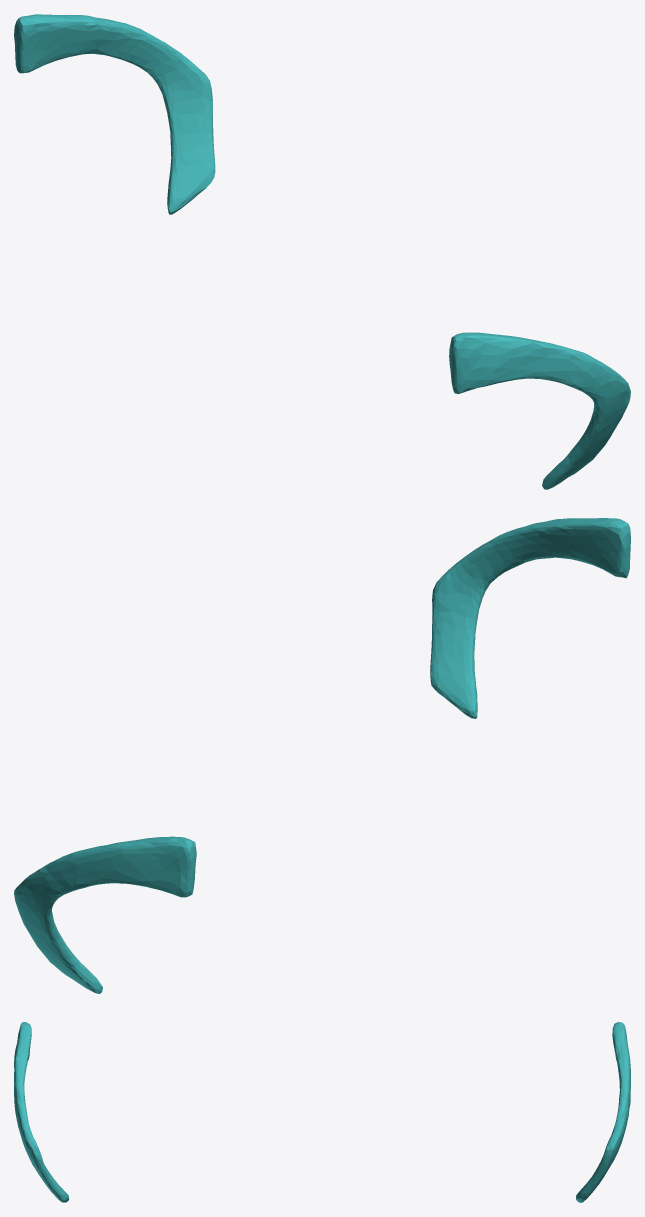
3 renders of one model, top to bottom at view 1: azimuth 30°, elevation 25°; view 2: azimuth 150°, elevation 25°; view 3: azimuth 270°, elevation 25°, orthographic. The views are drawn at different scales.
Parts seen in each view (by area): view 1: 1127.obj; view 2: 1127.obj; view 3: 1127.obj.
Part boxes in pixels (left/top/right/bottom): 1127.obj: left=14, top=14, right=630, bottom=489; 1127.obj: left=14, top=518, right=630, bottom=993; 1127.obj: left=14, top=1022, right=630, bottom=1202.
Bounding box in the file's own units: 2414 × 2510 × 10046.
